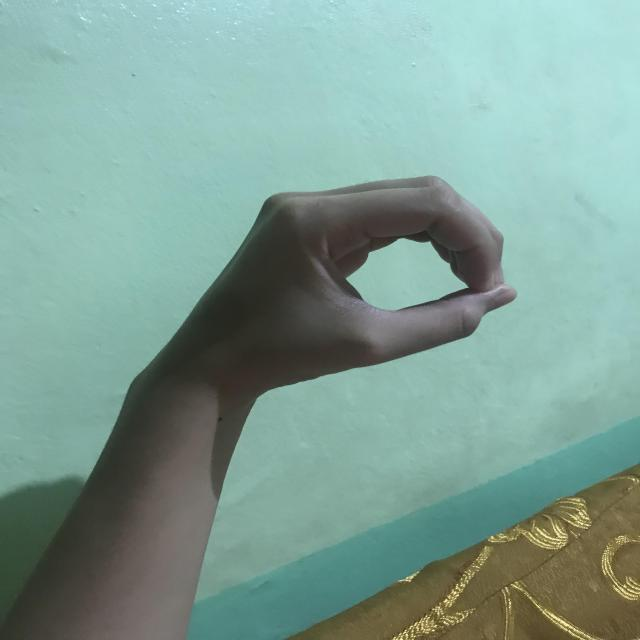O: (188, 170, 520, 394)
